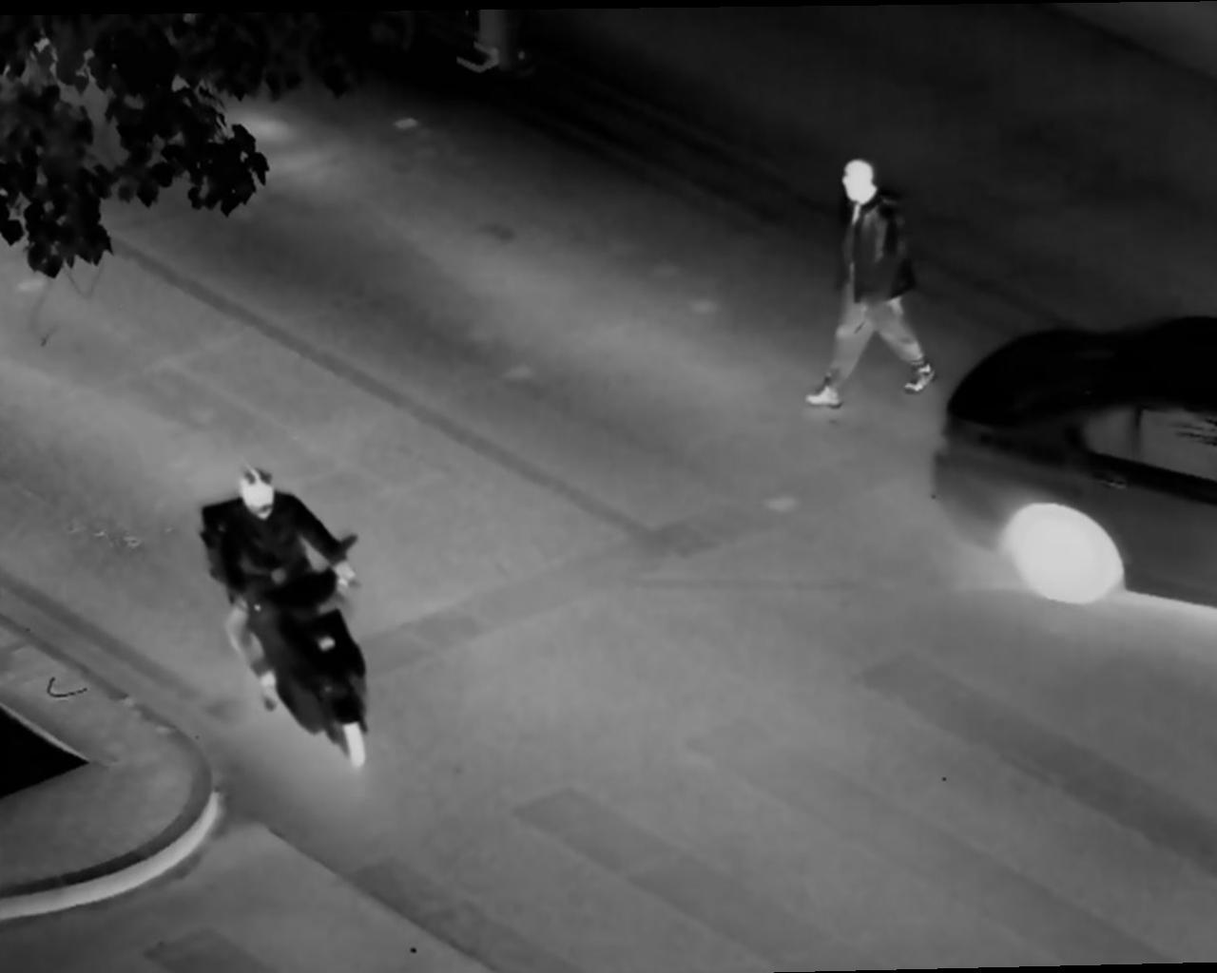person: (810, 153, 950, 408), (232, 467, 355, 697)
